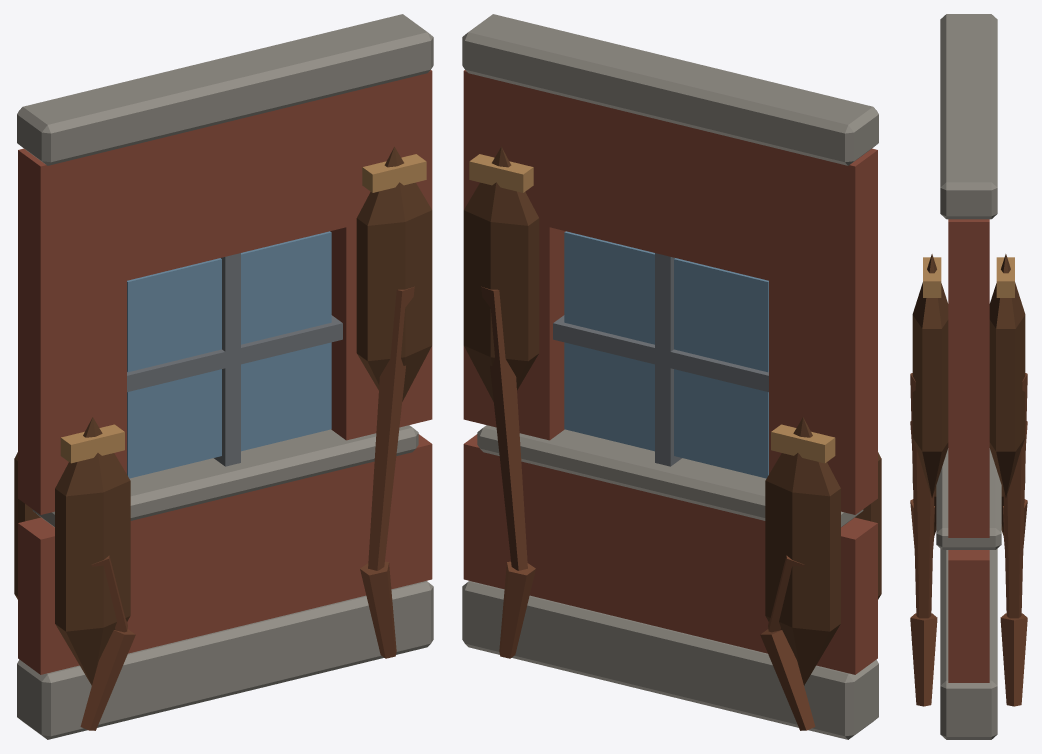
File: building-wall-window-infested.glb
3 views of the same model, side by side, from view 1: azimuth 30°, elevation 25°; view 2: azimuth 150°, elevation 25°; view 3: azimuth 270°, elevation 25° (orthographic). The views are drawn at different scales.
Parts seen in each view (by area): view 1: head, spandrel, glass, cornice, plinth, jamb_l, plaque_-1_0, plaque_-1_1, sill, jamb_r, root_-1_1, transom (+7 smaller); view 2: head, spandrel, glass, cornice, plinth, jamb_l, plaque_1_0, plaque_1_1, sill, jamb_r, root_1_1, transom (+7 smaller); view 3: cornice, jamb_r, plaque_-1_1, plaque_1_1, plinth, spandrel, head, root_-1_1, root_1_1, sill, foot_-1_1, foot_1_1 (+2 smaller).
Boxes of the visible parts, box(x1,y1,x2,y2) form: head: box(18, 70, 432, 301); spandrel: box(18, 434, 432, 674); glass: box(127, 231, 331, 478); cornice: box(17, 14, 433, 165); plinth: box(17, 581, 433, 739); jamb_l: box(18, 281, 126, 514); plaque_-1_0: box(55, 417, 130, 685); plaque_-1_1: box(356, 146, 432, 401); sill: box(32, 425, 418, 527); jamb_r: box(330, 206, 432, 440); root_-1_1: box(368, 286, 414, 570); transom: box(127, 315, 342, 392); head: box(463, 70, 877, 301); spandrel: box(463, 434, 877, 674); glass: box(564, 231, 768, 478); cornice: box(462, 14, 878, 165); plinth: box(462, 581, 878, 739); jamb_l: box(769, 281, 877, 514); plaque_1_0: box(765, 417, 840, 685); plaque_1_1: box(463, 146, 539, 401); sill: box(477, 425, 863, 527); jamb_r: box(463, 206, 565, 440); root_1_1: box(481, 286, 527, 570); transom: box(553, 315, 768, 392); cornice: box(940, 14, 997, 219); jamb_r: box(948, 344, 989, 537); plaque_-1_1: box(912, 254, 948, 497); plaque_1_1: box(989, 254, 1025, 497); plinth: box(940, 548, 997, 739); spandrel: box(948, 550, 989, 682); head: box(948, 219, 989, 344); root_-1_1: box(910, 373, 934, 618); root_1_1: box(1003, 373, 1027, 618); sill: box(936, 448, 1001, 549); foot_-1_1: box(910, 613, 937, 706); foot_1_1: box(1000, 613, 1027, 706).
Size of the model in its own units: 1 by 1.5 by 0.2866.
